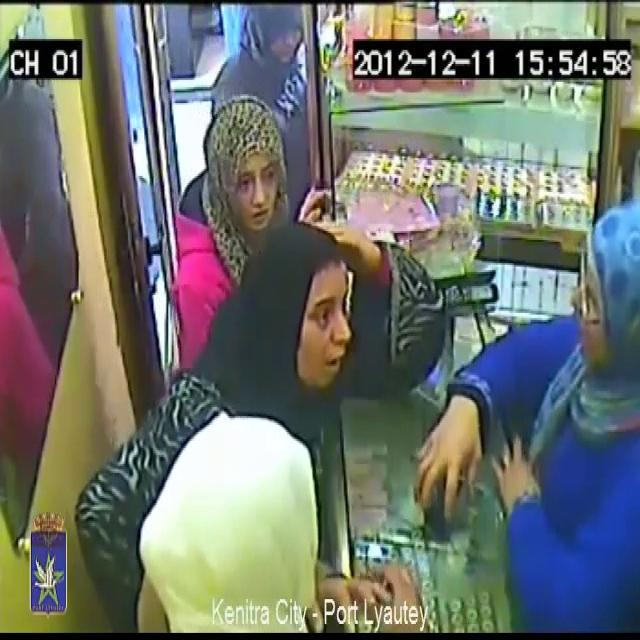Product: (367, 553, 397, 605)
normal: (466, 138, 639, 640), (252, 236, 384, 453), (201, 15, 299, 306), (228, 0, 314, 192)
shoplifting: (132, 424, 450, 640)
